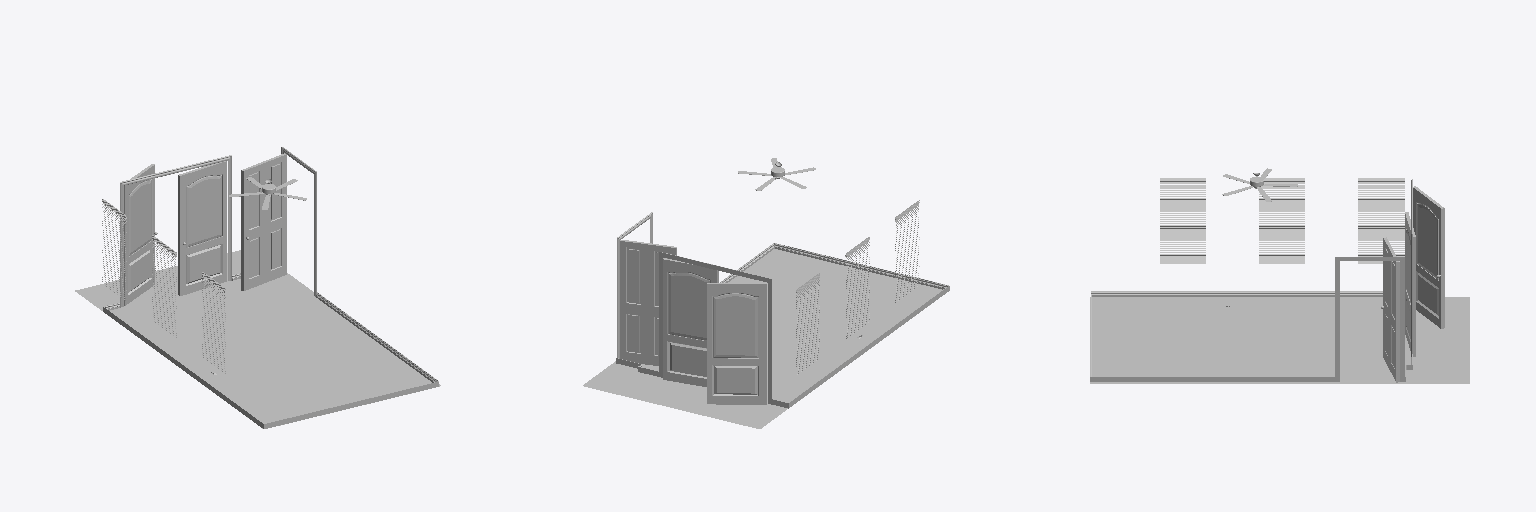
Rendered from BedRoom.obj.
3 renders of one model, left to right at view 1: azimuth 30°, elevation 25°; view 2: azimuth 150°, elevation 25°; view 3: azimuth 270°, elevation 25°, orthographic.
Parts seen in each view (by area): view 1: default; view 2: default; view 3: default.
Part boxes in pixels (left/top/right/bottom): default: left=75, top=147, right=440, bottom=428; default: left=583, top=158, right=949, bottom=428; default: left=1090, top=168, right=1469, bottom=383.
Bounding box in the file's own units: 127 × 112 × 228.